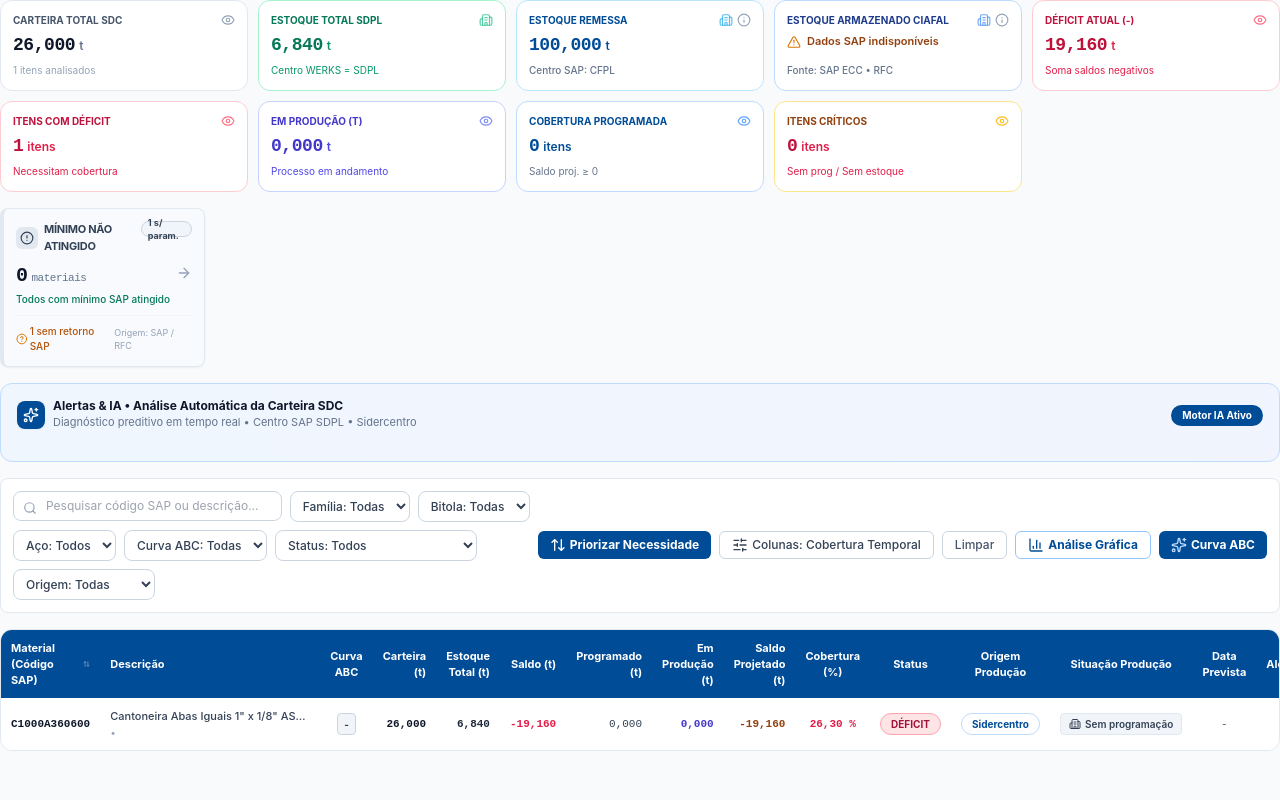
it: Carteira SDC — Indicadores Estoque Remessa e Estoque Armazenado Ciafal (Cenários 1 a 5) › Cenário 12: Limpar filtros restaura todos os centros, o total consolidado e o selo Conferido
Click the button with test id "card-estoque-remessa" at (640, 46), box [516,0,764,91]
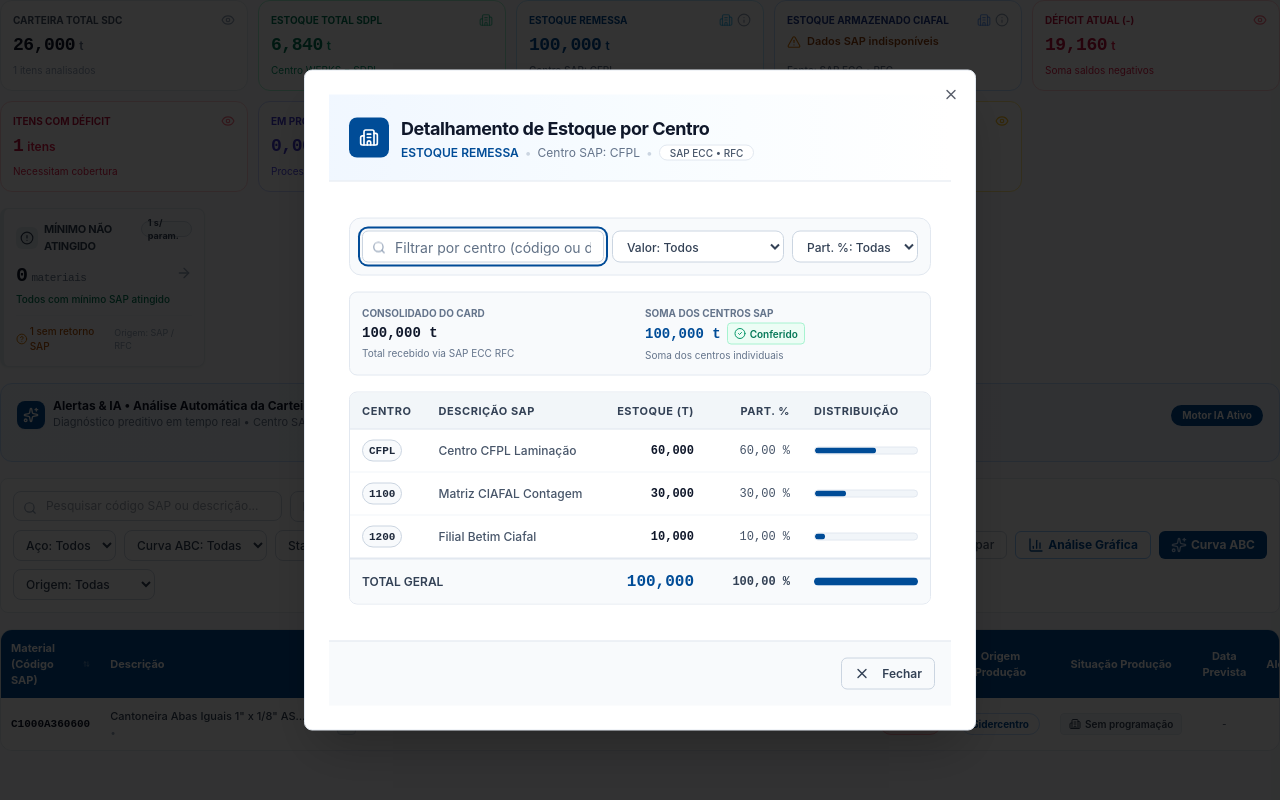
expect the dialog with test id "modal-detalhamento-estoque-centro" is shown: met, box [304,70,976,730]
Select "≥ 10,000 t" in the dropdown with test id "select-filtro-valor-minimo" at (698, 246), box [612,230,784,262]
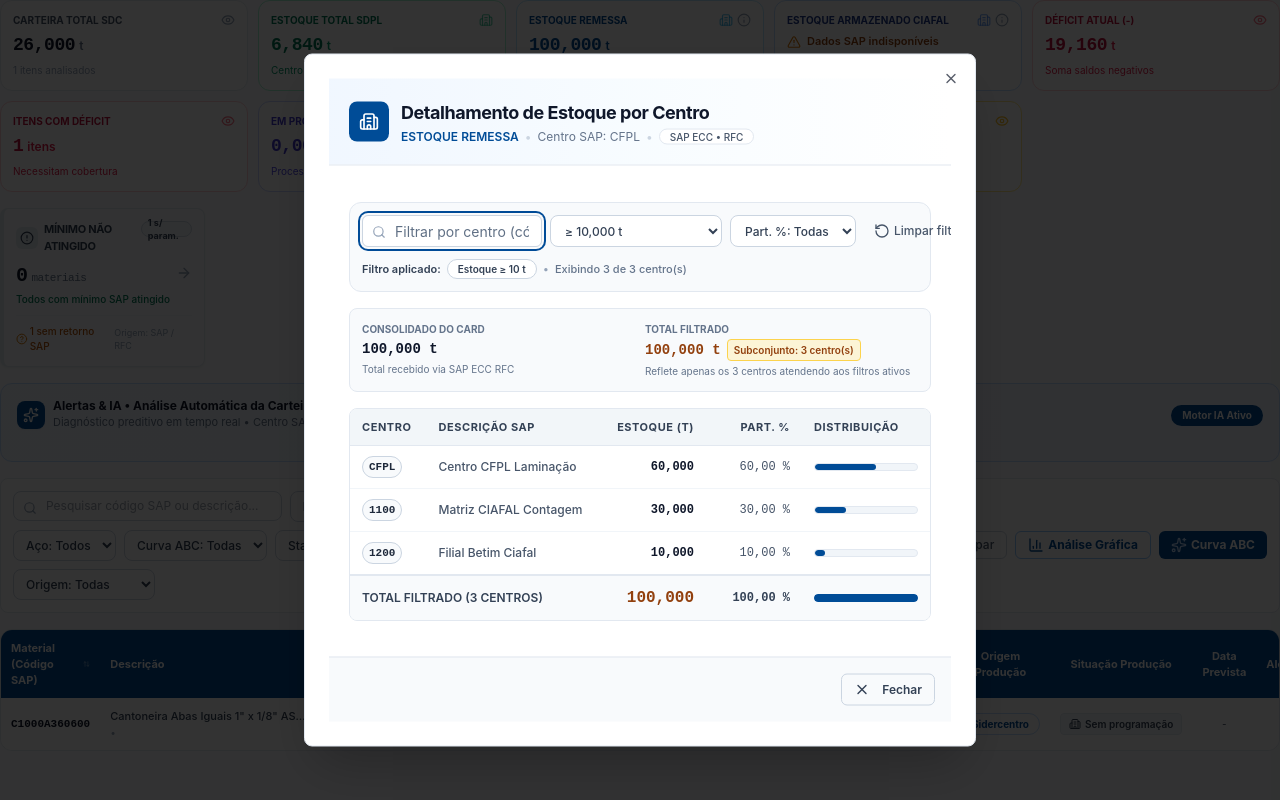
Select "MIN_50_PCT" in the dropdown with test id "select-filtro-participacao" at (793, 230), box [730,214,856,246]
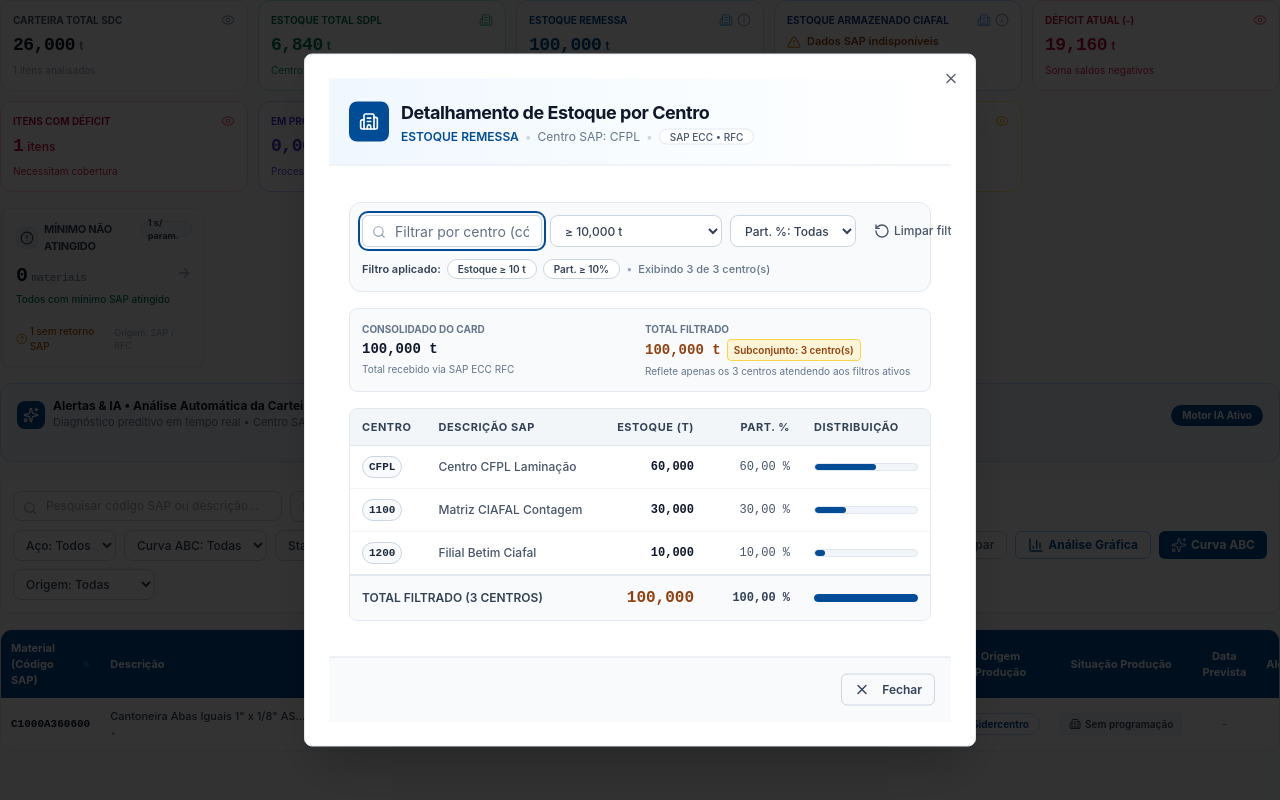
Select "≥ 10%" in the dropdown with test id "select-filtro-participacao" at (793, 230), box [730,214,856,246]
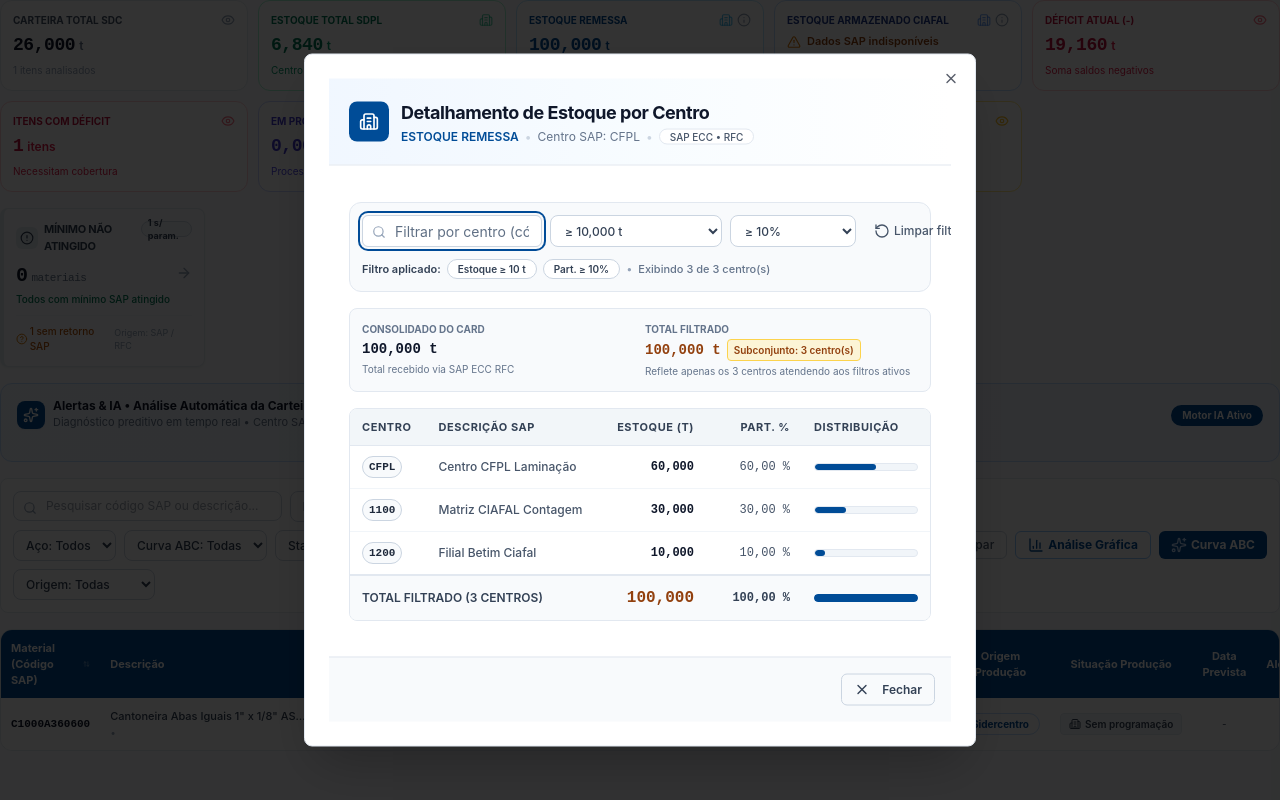
# Filtra por busca "1100"
Type "1100" into the field with test id "input-busca-centro" at (452, 230), box [362,214,542,246]
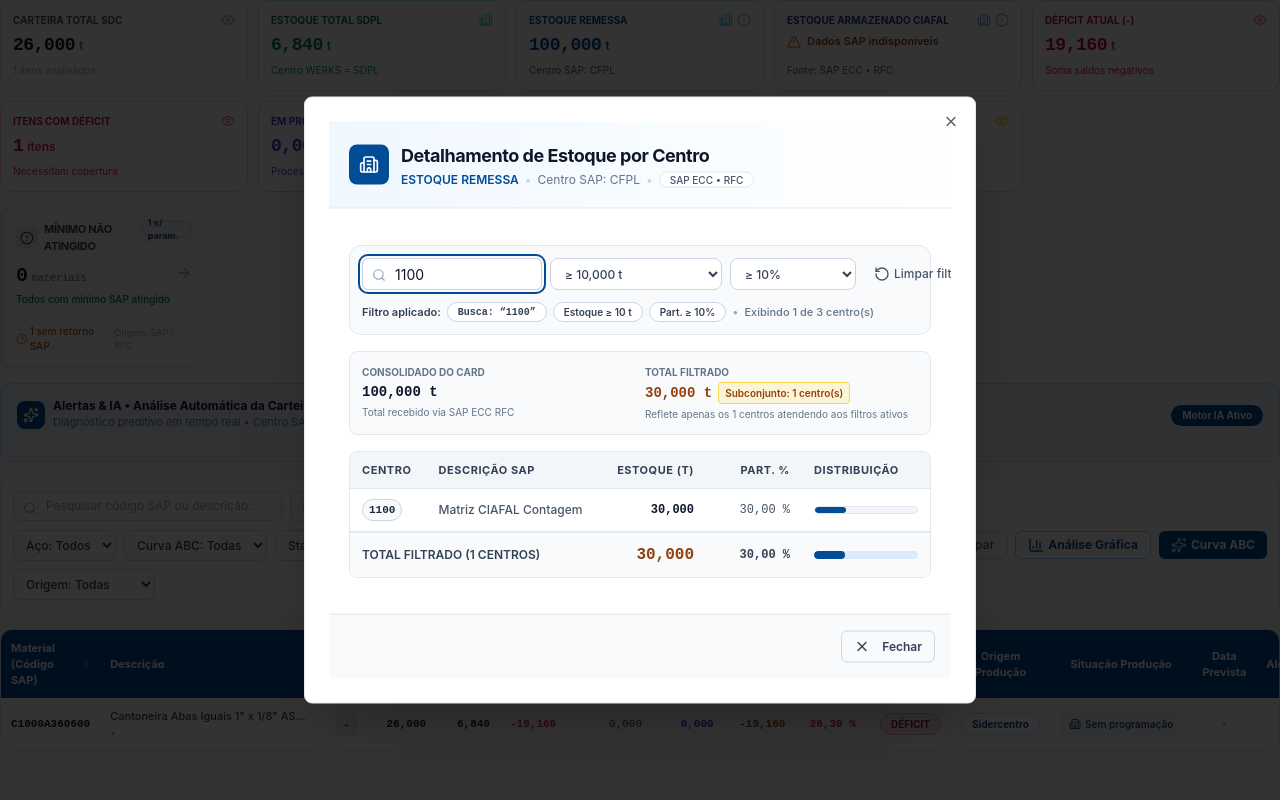
expect the row with test id "linha-centro-1100" is shown: met, box [350,488,930,532]
expect the row with test id "linha-centro-CFPL" is gone: met
# Clica em "Limpar filtros"
Click the button with test id "btn-limpar-filtros-centro" at (922, 274), box [864,258,980,290]
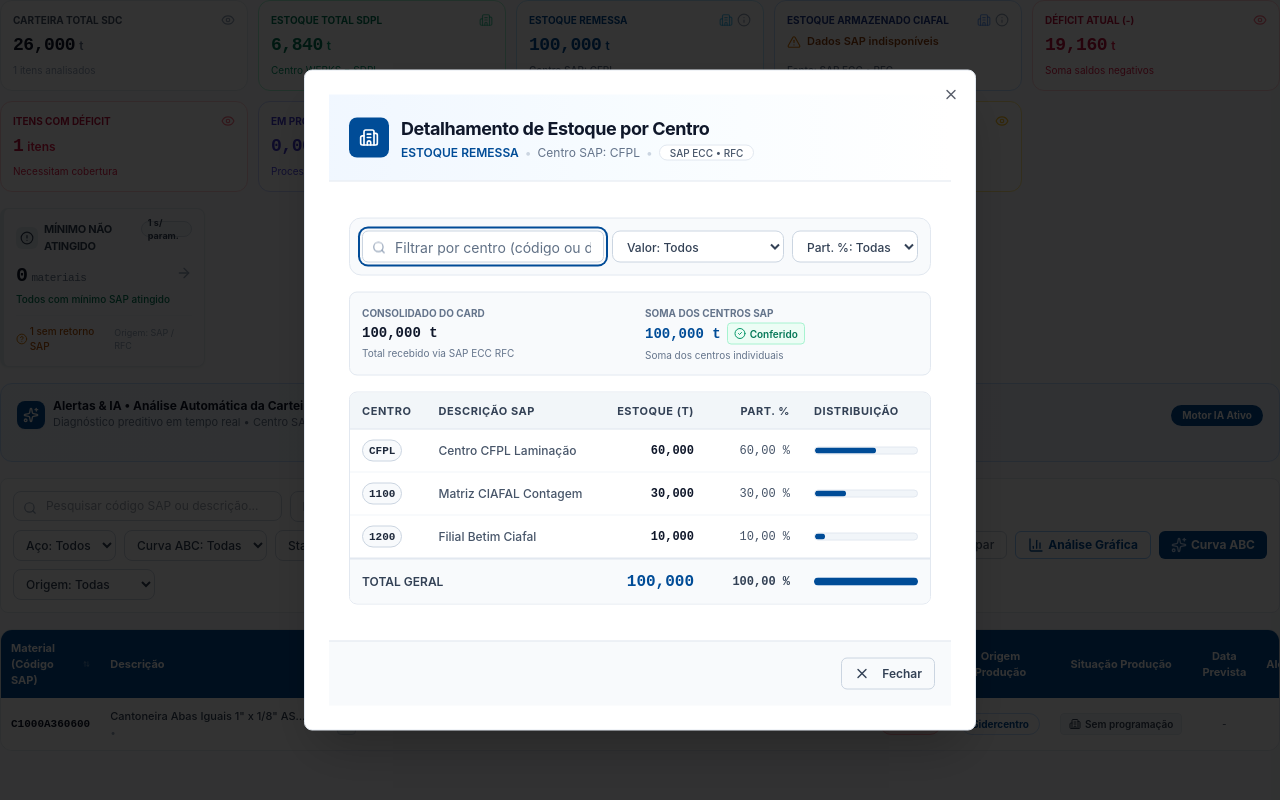
expect the row with test id "linha-centro-1100" is shown: met, box [350,472,930,515]
expect the row with test id "linha-centro-CFPL" is shown: met, box [350,429,930,472]
expect the row with test id "linha-centro-1200" is shown: met, box [350,515,930,558]
